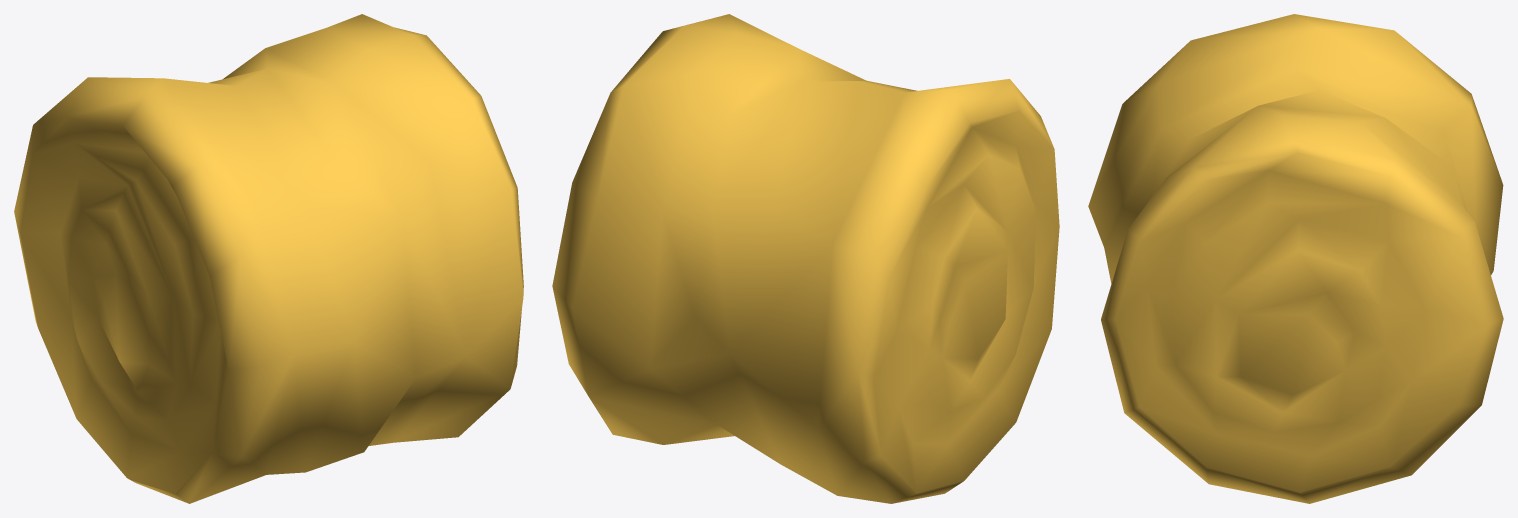
Rendered from hay_001.glb.
The picture shows the model from 3 angles, left to right: view 1: azimuth 30°, elevation 25°; view 2: azimuth 150°, elevation 25°; view 3: azimuth 270°, elevation 25°; orthographic projection. The views are drawn at different scales.
Parts seen in each view (by area): view 1: hay_001; view 2: hay_001; view 3: hay_001.
Part boxes in pixels (<box>): hay_001: <box>14,14,523,503</box>; hay_001: <box>552,14,1059,503</box>; hay_001: <box>1088,14,1503,503</box>.
Bounding box in the file's own units: 1.74 × 1.95 × 2.01.
Materials: 1 (1 with a texture image).
